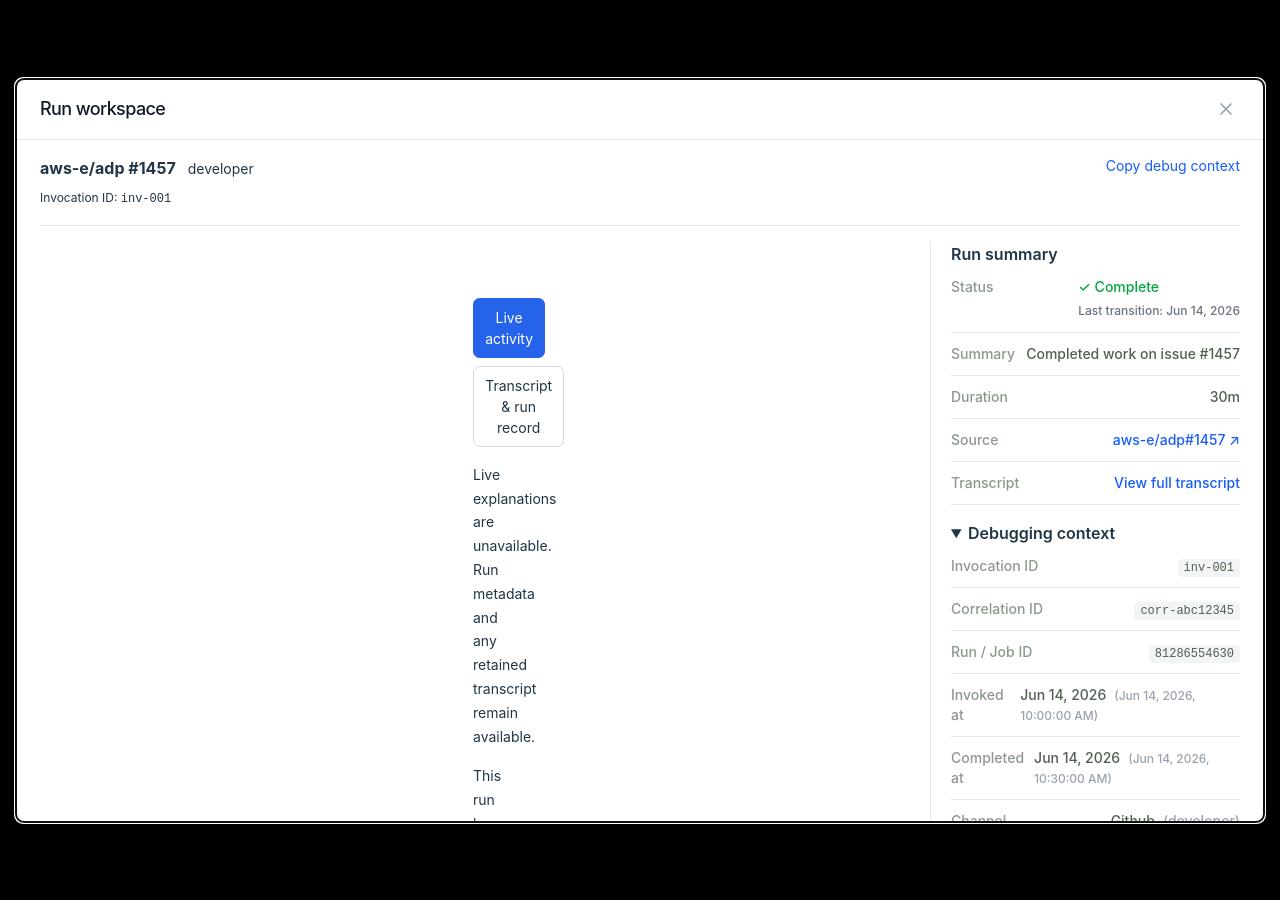
it: InvocationDetail › inline transcript (Issue #3767) › shows "Back to detail" button and returns to detail view when clicked
Note: Click "View full transcript"
Click the button "View full transcript" at [1177, 483], box [1114,473,1240,493]
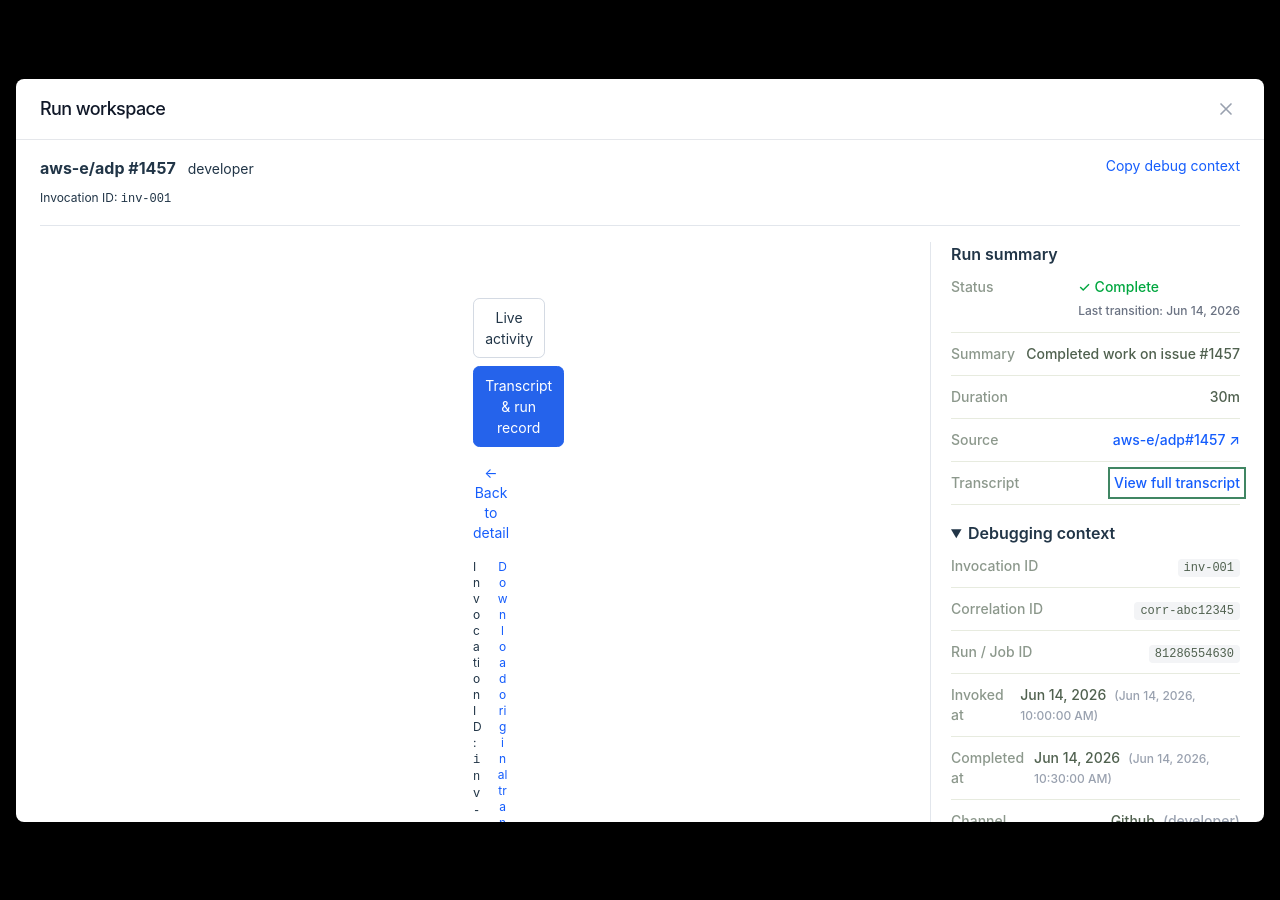
Expected: the text "Invocation ID" is shown, [951,556,1038,576]
Expected: the button "← Back to detail" is shown
Note: Click back
Click the button "← Back to detail" at [491, 503], box [473,463,509,543]
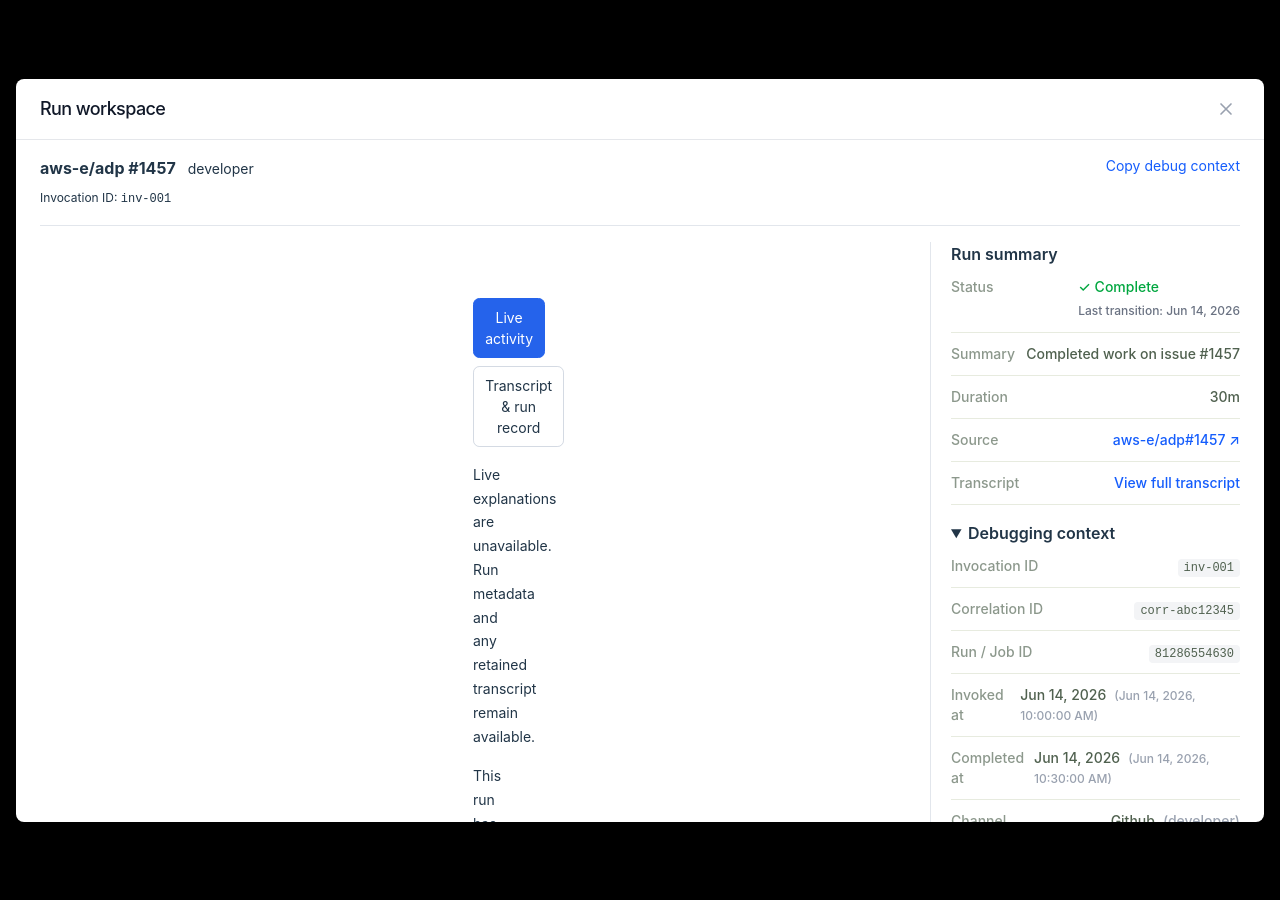
Expected: the text "inv-001" next to "Invocation ID:" is shown, [121,192,171,206]
Expected: the button "Back to detail" is gone
